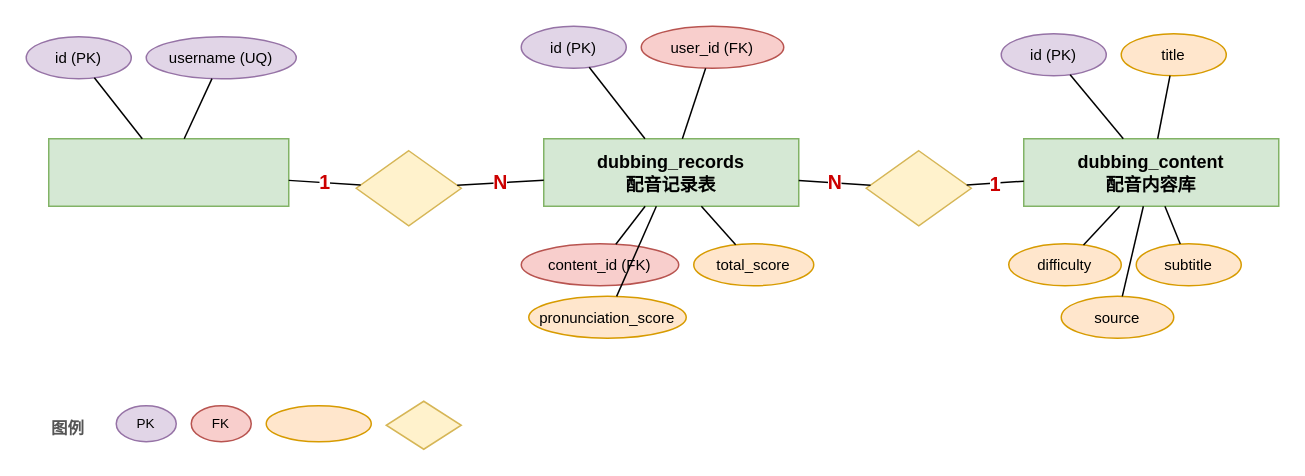
Some shapes in this 1305 by 476 pixel diagram are drawn without their labels. The centre of each missing label's shape, as x and y in pixels:
user_profiles 用户画像表: point 168,171
关系: point 423,424
对应: point 918,187
普通属性: point 318,423
配音: point 408,187
